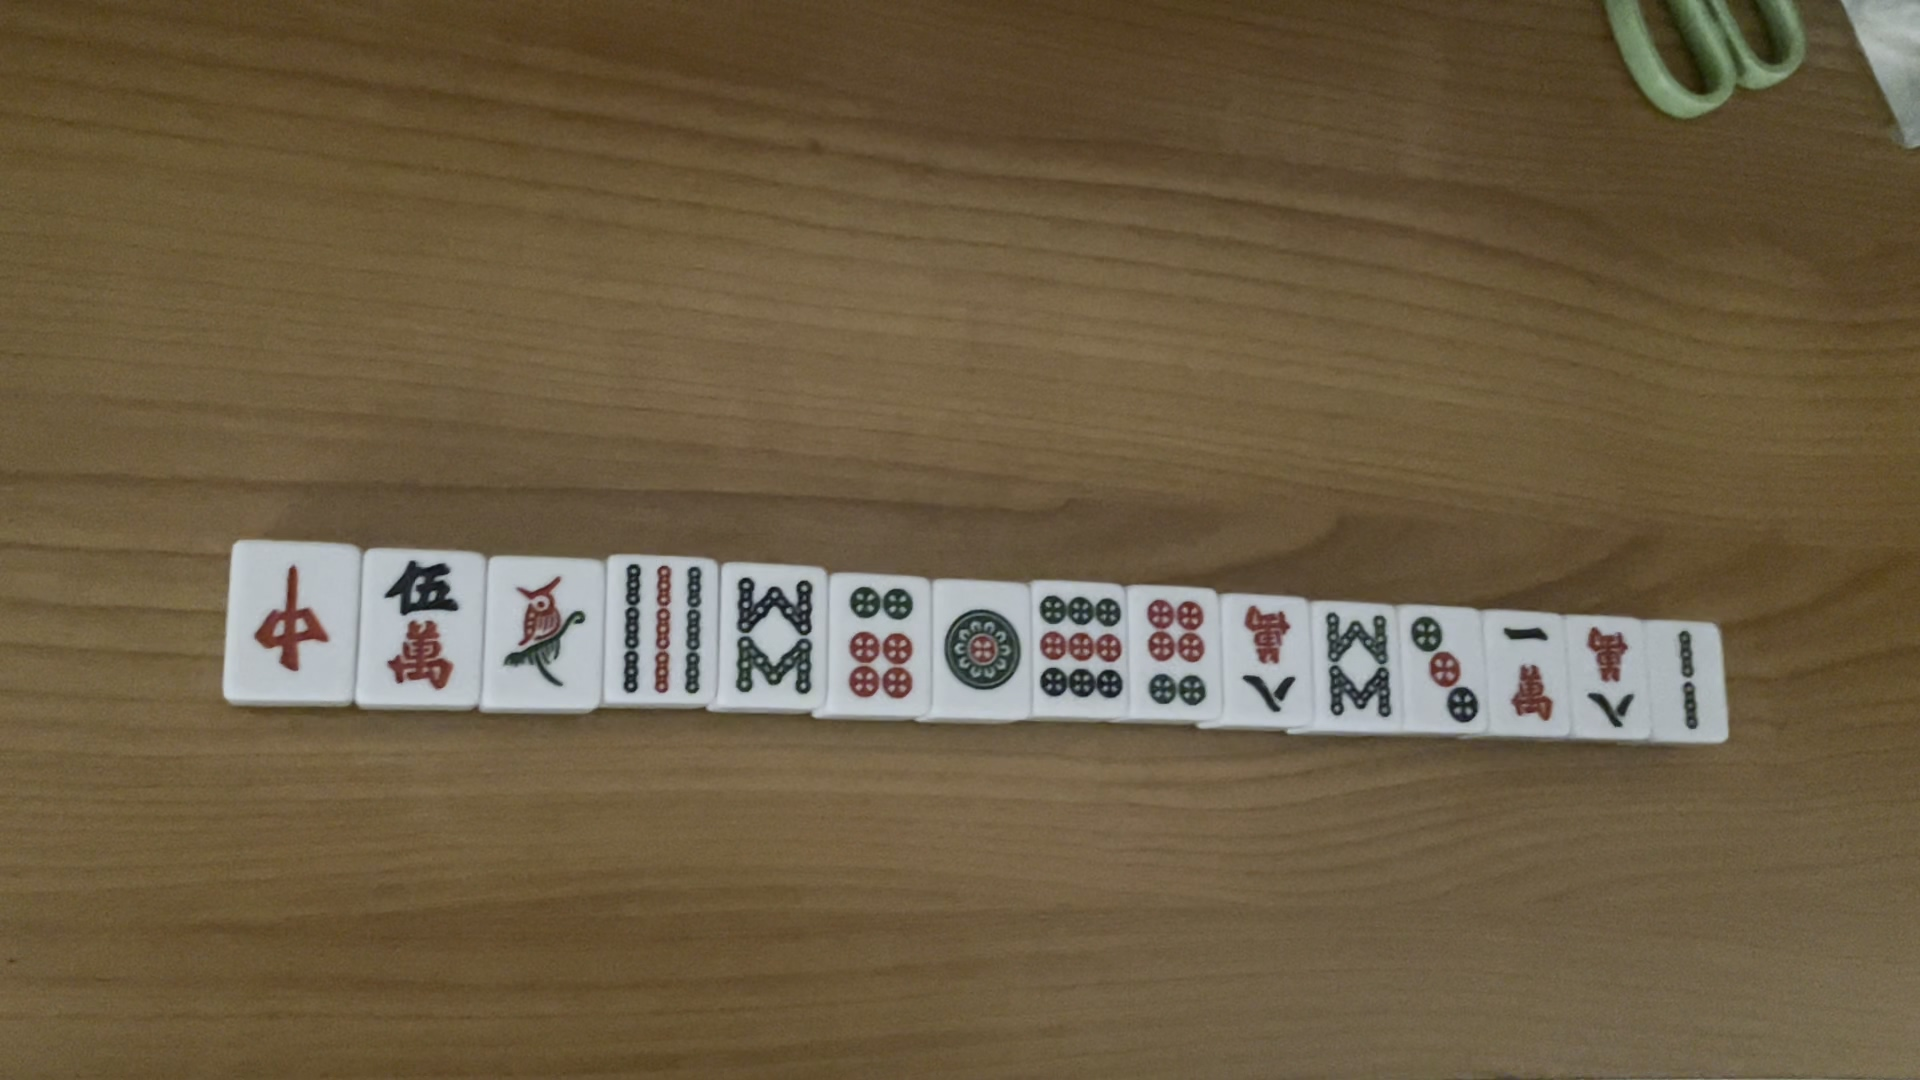b-1: (498, 575, 597, 686)
b-2: (1665, 628, 1709, 735)
b-8: (725, 564, 823, 705), (1320, 599, 1391, 725)
b-9: (613, 560, 716, 696)
c-1: (1497, 618, 1563, 735)
c-5: (377, 559, 467, 688)
c-8: (1241, 605, 1303, 717), (1582, 621, 1644, 731)
d-1: (942, 603, 1023, 699)
d-3: (1404, 615, 1493, 731)
d-6: (839, 579, 919, 705), (1139, 592, 1213, 712)
d-9: (1040, 595, 1127, 705)
honors-red: (244, 556, 332, 682)
